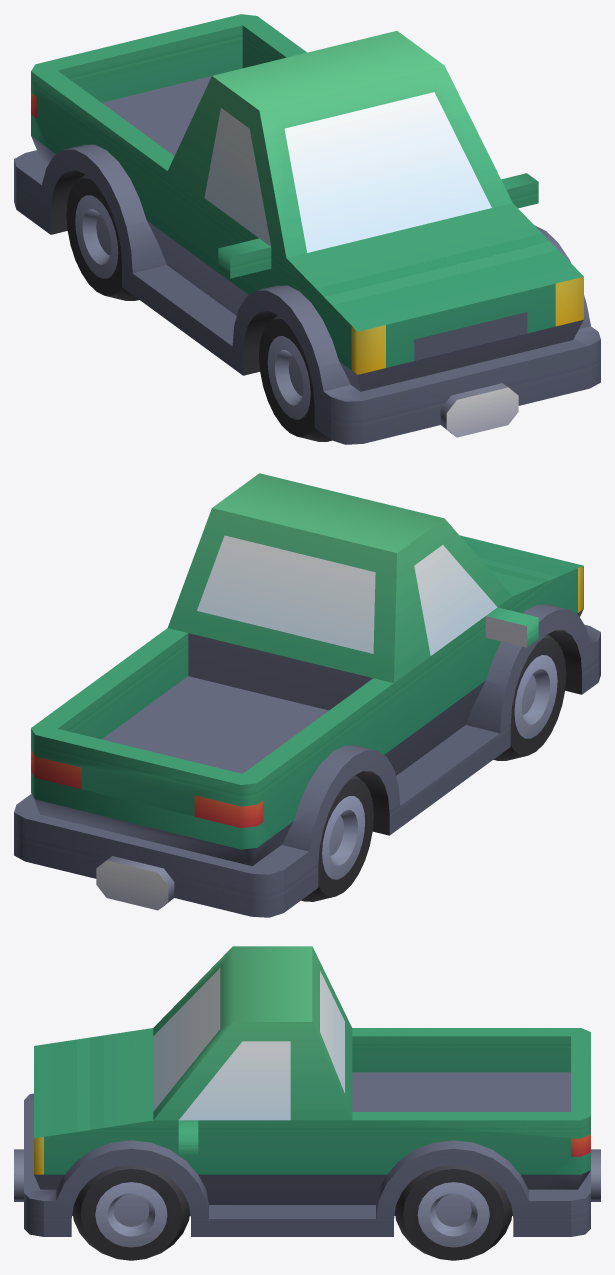
The model's file is truck-transformed.glb.
The picture shows the model from 3 angles, top to bottom: view 1: azimuth 30°, elevation 25°; view 2: azimuth 150°, elevation 25°; view 3: azimuth 270°, elevation 25°; orthographic projection. The views are drawn at different scales.
Visible parts, largest first — view 1: wheel-front-left; view 2: wheel-front-left; view 3: wheel-front-left.
Boxes of the visible parts, bbox=[...] form: wheel-front-left: bbox=[14, 14, 600, 444]; wheel-front-left: bbox=[14, 473, 600, 917]; wheel-front-left: bbox=[14, 946, 600, 1260].
Bounding box in the file's own units: 1.5 × 1.3 × 2.95.
1 material, 1 textured.
